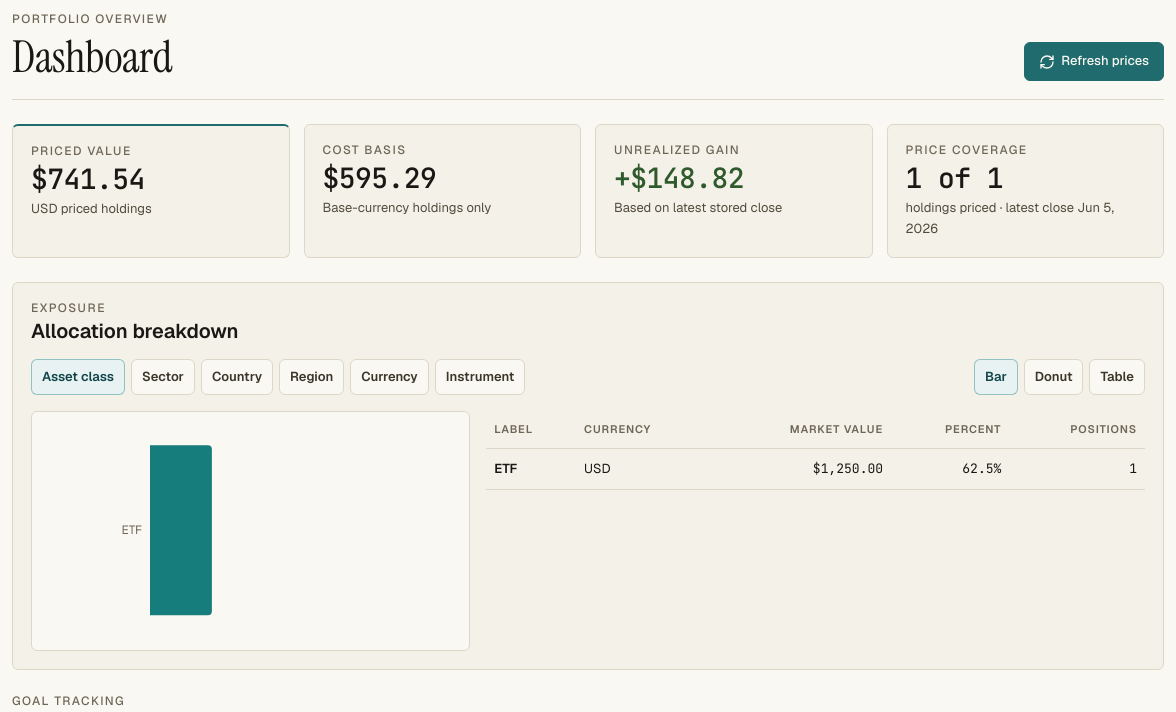
Test: DashboardPage › updates table labels when the breakdown dimension changes
Click the button "Sector" at [163, 377], box top-left (131, 359), bottom-right (195, 395)
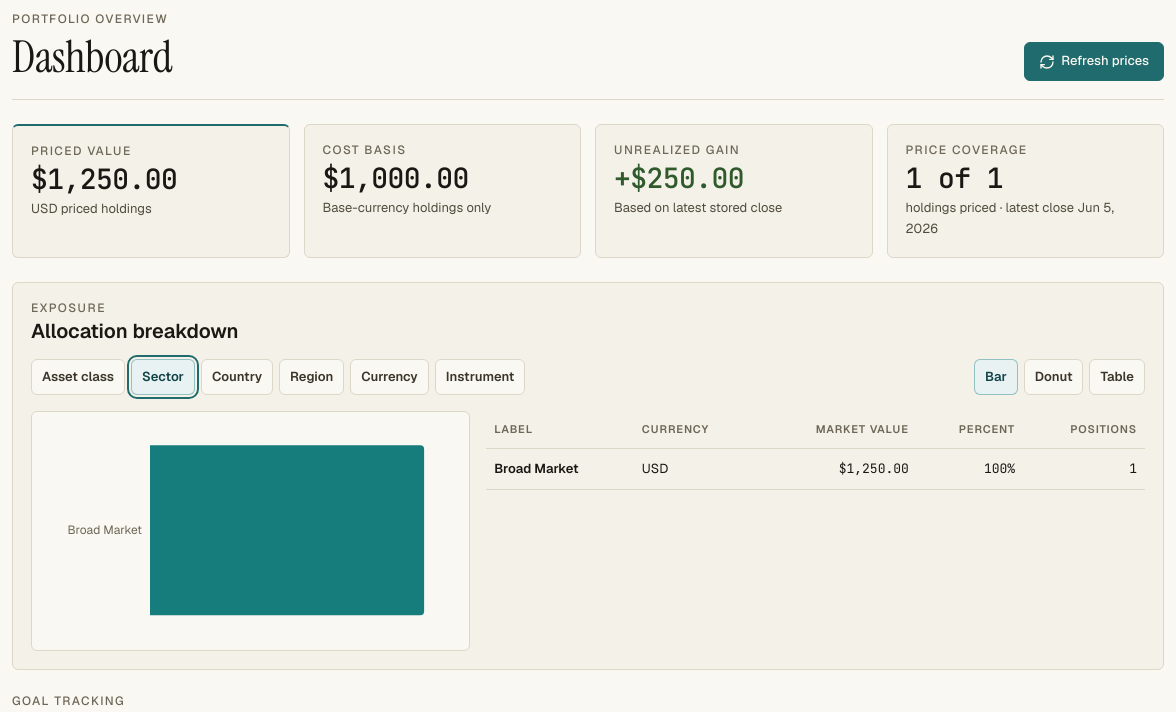
expect the cell "Broad Market" is shown: met, box top-left (486, 449), bottom-right (634, 490)
expect the icon "ETF" is gone: met
